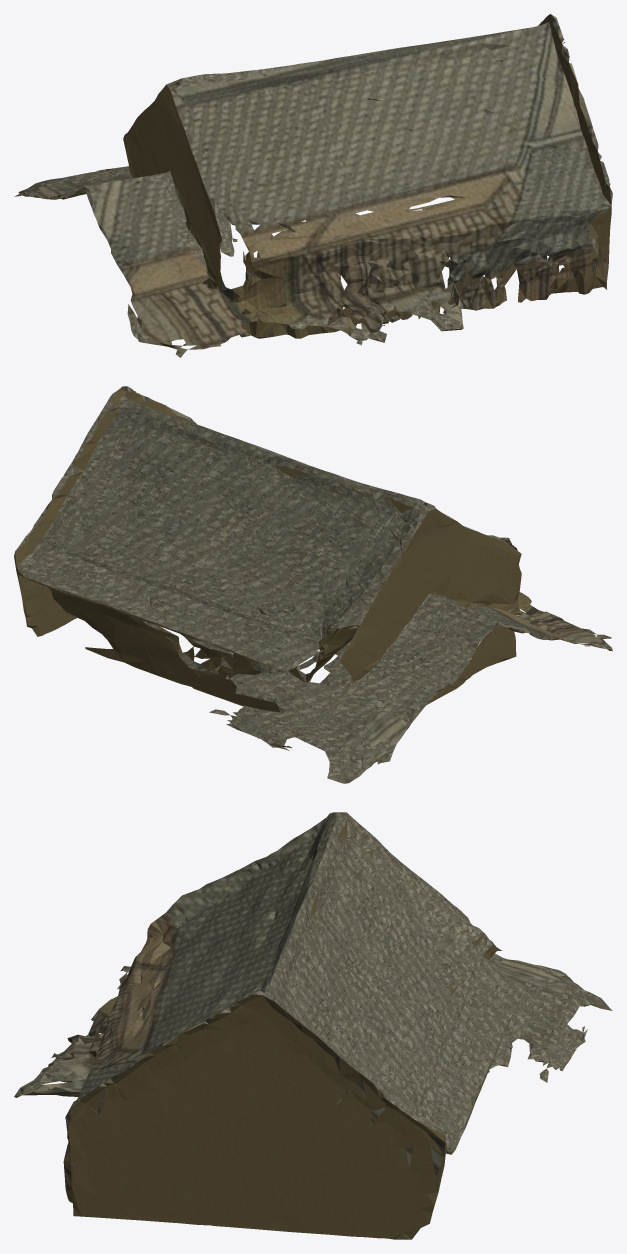
The picture shows the model from 3 angles, top to bottom: view 1: azimuth 30°, elevation 25°; view 2: azimuth 150°, elevation 25°; view 3: azimuth 270°, elevation 25°; orthographic projection. The views are drawn at different scales.
Parts seen in each view (by area): view 1: painted, wall, roof; view 2: roof, wall, painted; view 3: wall, roof, painted.
Boxes of the visible parts, bbox=[...] form: painted: bbox=[20, 14, 612, 354]; wall: bbox=[16, 14, 611, 342]; roof: bbox=[14, 15, 602, 357]; roof: bbox=[17, 386, 612, 783]; wall: bbox=[14, 387, 611, 783]; painted: bbox=[123, 386, 610, 774]; wall: bbox=[14, 820, 611, 1239]; roof: bbox=[14, 812, 612, 1159]; painted: bbox=[22, 814, 580, 1239].
Size of the model in its own units: 7.8 by 3.23 by 7.31.
3 materials, 3 textured.
